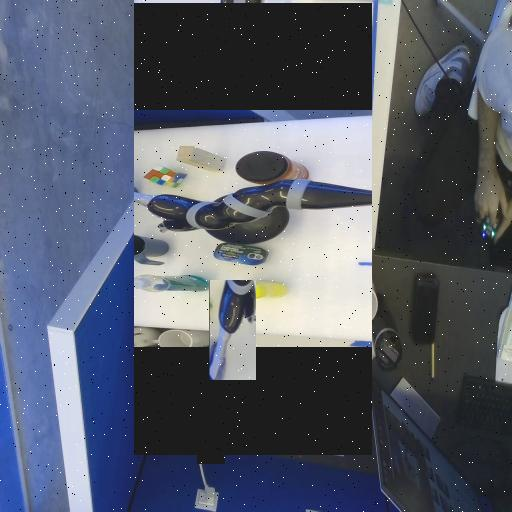bowl: (218, 194, 268, 279)
cleanser: (300, 271, 316, 351)
coffee_can: (175, 190, 214, 228)
jaco: (210, 280, 256, 380)
meat_can: (268, 214, 289, 267)
mug: (259, 313, 289, 369)
mustard_bottle: (305, 195, 324, 263)
rubik: (190, 305, 212, 327)
soup_can: (290, 397, 308, 415)
tennis_ball: (221, 294, 238, 324)
windex: (197, 391, 225, 413)
wooden_block: (171, 258, 195, 304)
workspace: (134, 116, 372, 343)
